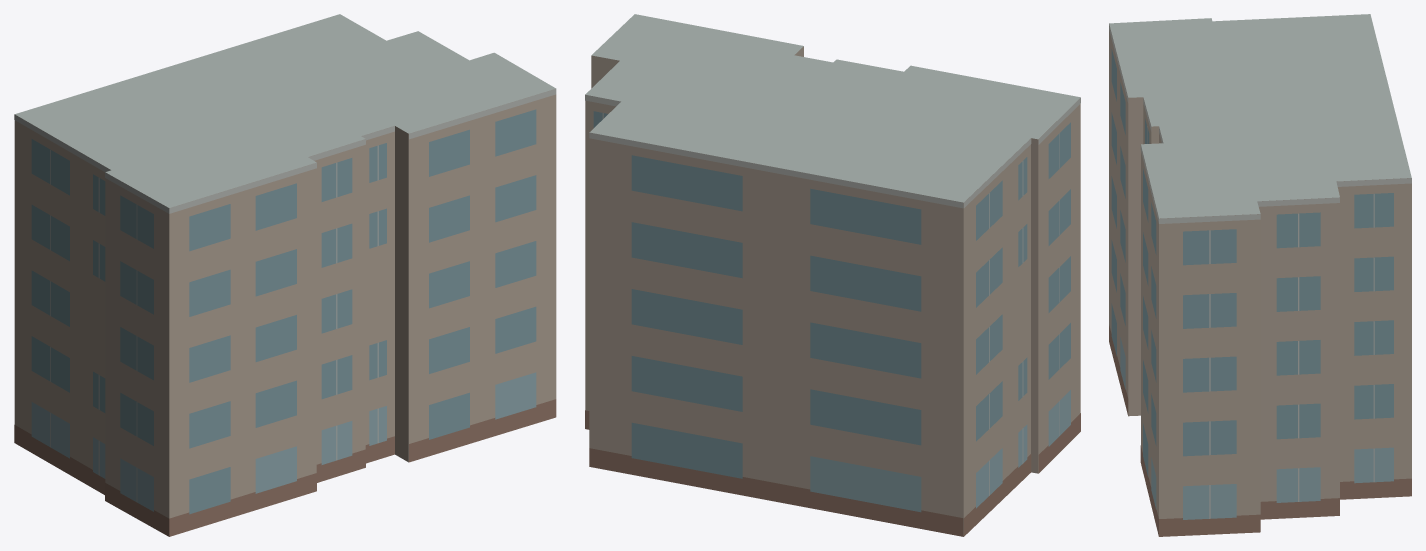
Rendered from survey-upis-32577037.glb.
3 views of the same model, side by side, from view 1: azimuth 30°, elevation 25°; view 2: azimuth 150°, elevation 25°; view 3: azimuth 270°, elevation 25° (orthographic). The views are drawn at different scales.
Visible parts, largest first — view 1: survey-upis-32577037.tmp; view 2: survey-upis-32577037.tmp; view 3: survey-upis-32577037.tmp.
Boxes of the visible parts, x1,y1,x2,y2 form: survey-upis-32577037.tmp: (14,14,556,536); survey-upis-32577037.tmp: (585,14,1080,536); survey-upis-32577037.tmp: (1109,14,1411,536).
Size of the model in its own units: 19.15 by 13.9 by 11.99.
